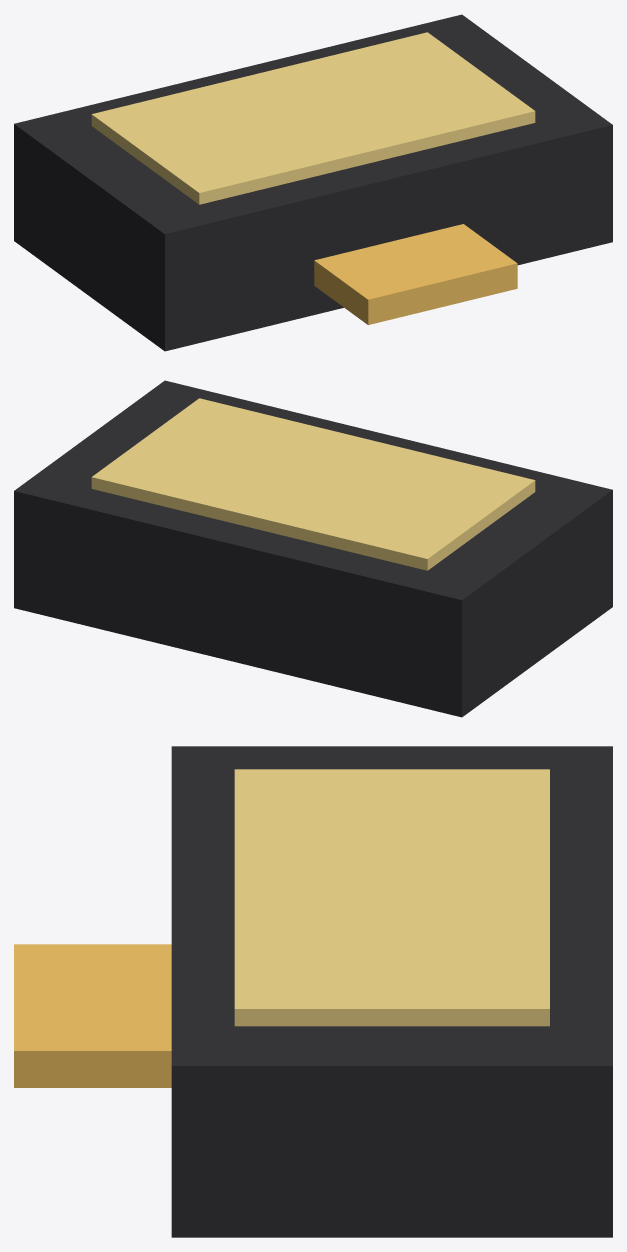
File: phone-plug.glb
3 views of the same model, one above another, from view 1: azimuth 30°, elevation 25°; view 2: azimuth 150°, elevation 25°; view 3: azimuth 270°, elevation 25° (orthographic). The views are drawn at different scales.
Parts seen in each view (by area): view 1: plug; view 2: plug; view 3: plug.
Part boxes in pixels (x1=…): plug: x1=14, y1=14, x2=612, y2=351; plug: x1=14, y1=380, x2=612, y2=717; plug: x1=14, y1=746, x2=612, y2=1237.
Size of the model in its own units: 0.024 by 0.0066 by 0.019.
